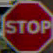Stop: (4, 1, 49, 44)
